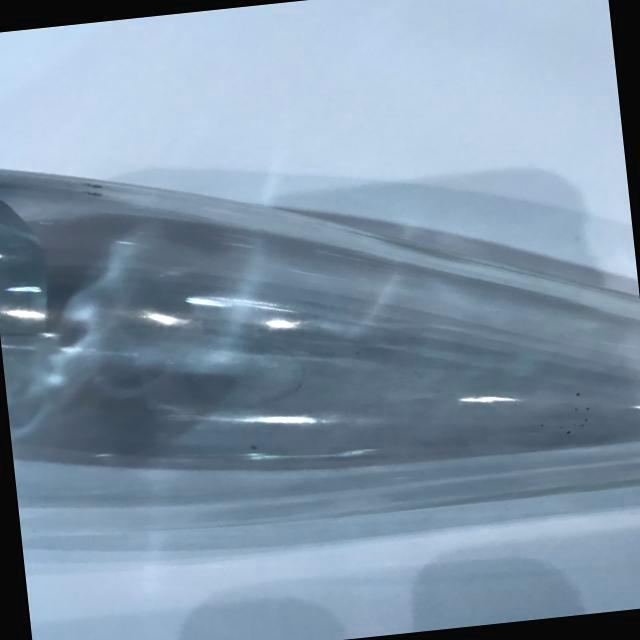glass: (0, 74, 640, 541)
